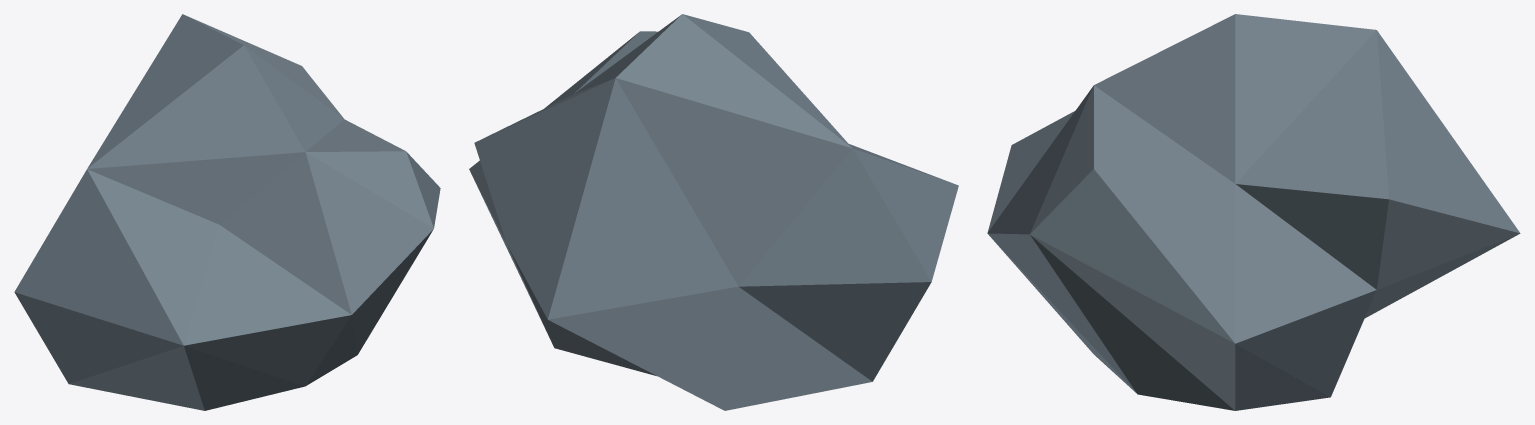
The model's file is rock06.fbx.
The picture shows the model from 3 angles, left to right: view 1: azimuth 30°, elevation 25°; view 2: azimuth 150°, elevation 25°; view 3: azimuth 270°, elevation 25°; orthographic projection. The views are drawn at different scales.
Parts seen in each view (by area): view 1: pCube2; view 2: pCube2; view 3: pCube2.
Part boxes in pixels (x1,y1,x2,y2): pCube2: (14, 14, 440, 410); pCube2: (469, 14, 958, 410); pCube2: (987, 14, 1520, 410).
Bounding box in the file's own units: 0.0229 × 0.0152 × 0.0216.
